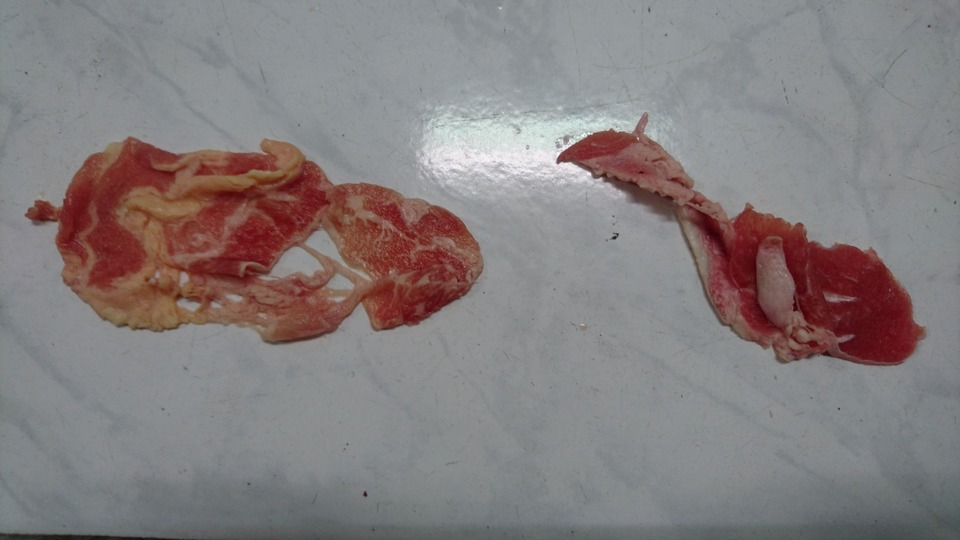restructured meat: (38, 126, 490, 357), (560, 108, 927, 388)
